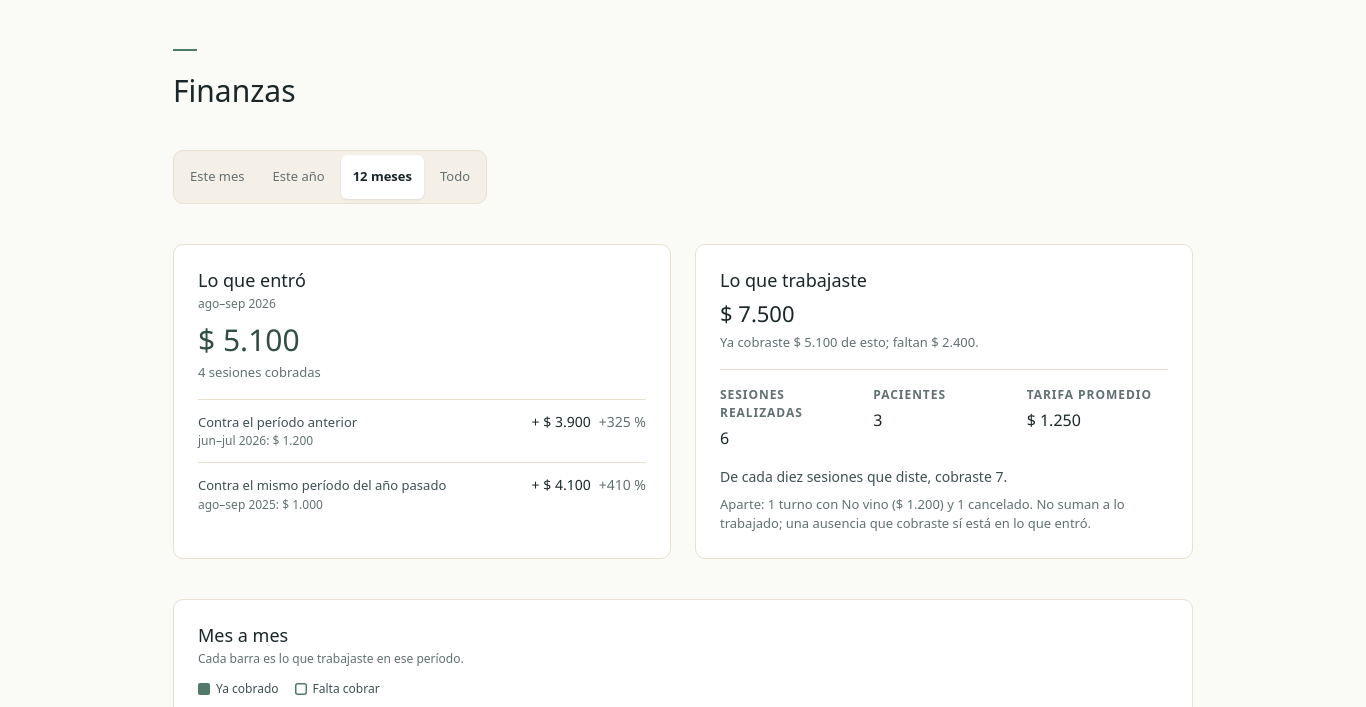
Test: si falla una recarga con datos en pantalla, avisa como las demás pantallas y los deja
Expected: the element showing "Este mes Este año 12 meses Todo" is shown, [173,150,487,204]
Click the tab "Este mes".
click(217, 176)  # box [178,154,257,198]
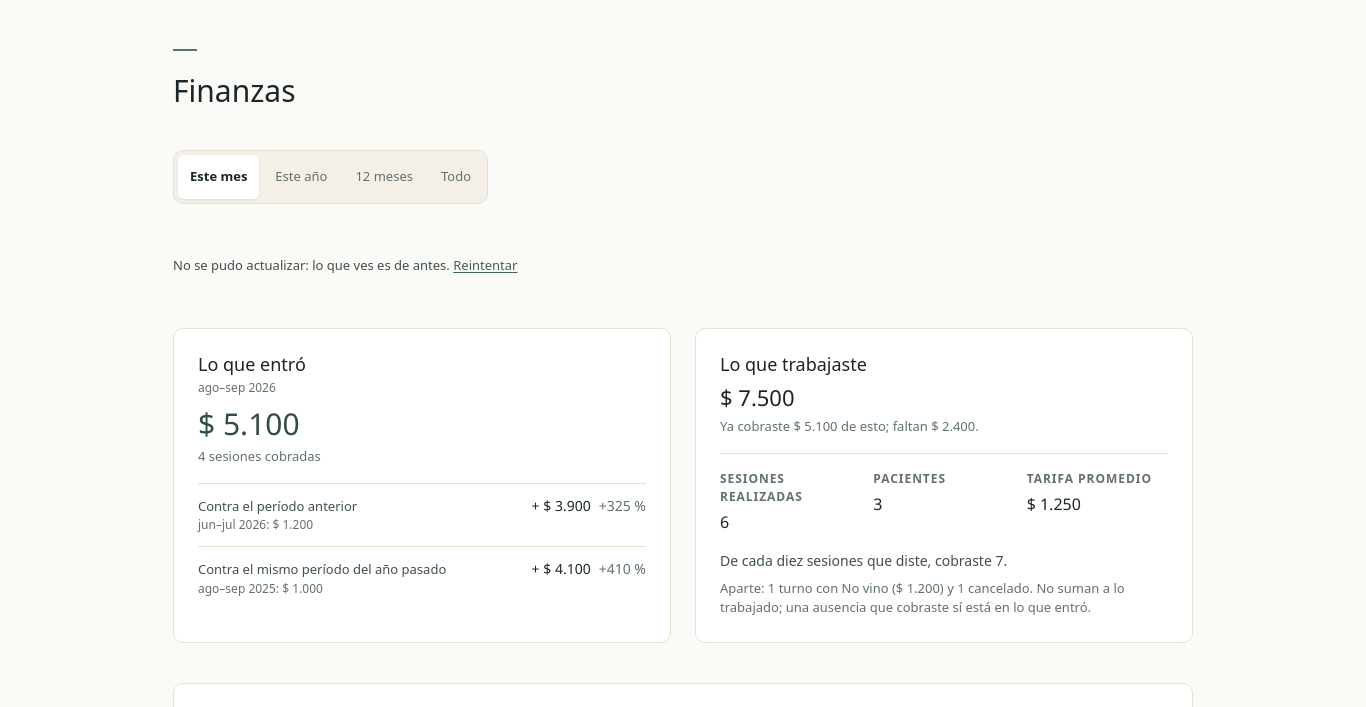
Expected: the element showing "Este mes Este año 12 meses Todo" is shown, [173,150,488,204]
Now the message shows "No se pudo actualizar: lo que ves es de antes.", box [173,256,450,274]
